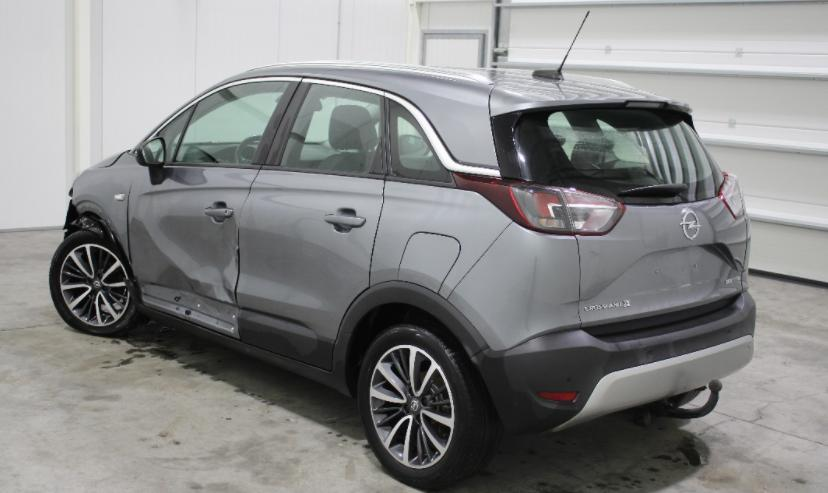Back-bumper: (471, 290, 756, 435)
Back-door: (236, 79, 388, 370)
Back-wheel: (358, 322, 504, 488)
Back-window: (278, 84, 458, 188)
Back-windshield: (491, 108, 724, 205)
Fender: (72, 151, 138, 267)
Front-door: (125, 78, 302, 339)
Front-wheel: (49, 230, 152, 337)
Front-window: (154, 82, 290, 164)
Hood: (87, 151, 127, 169)
Mirror: (136, 137, 165, 184)
Quarter-panel: (370, 181, 581, 350)
Rocker-panel: (124, 279, 489, 395)
Roof: (252, 62, 573, 88)
Tail-light: (452, 172, 572, 237), (561, 190, 623, 235), (719, 172, 746, 219)
Trunk: (490, 73, 746, 328)
